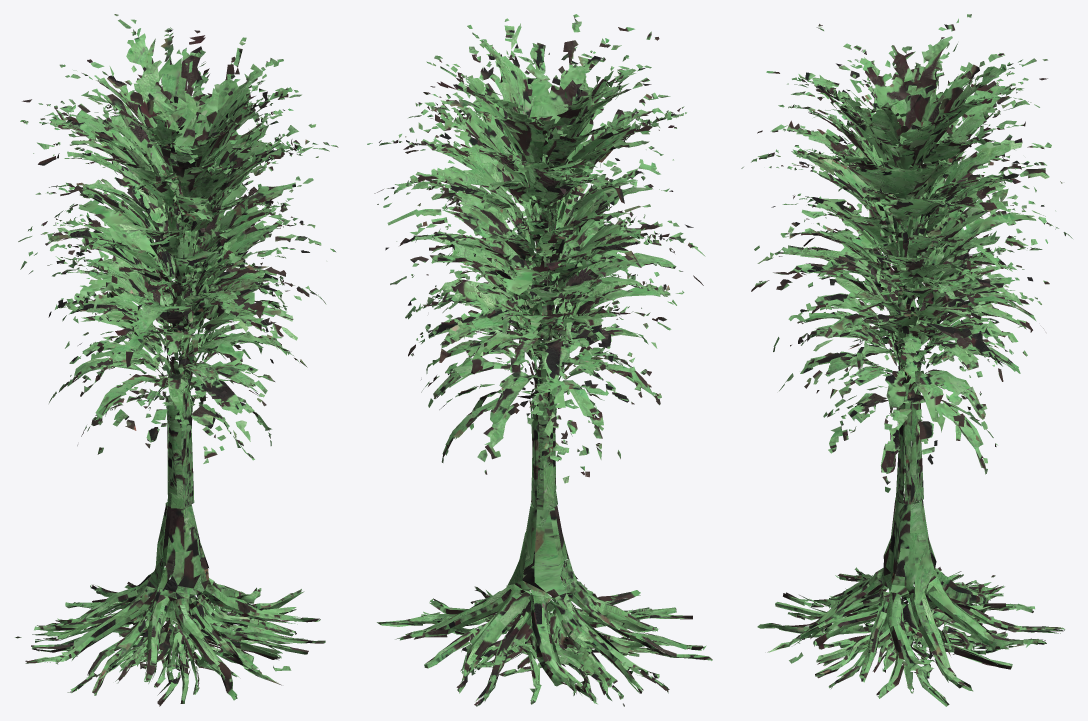
File: veg_tropical_treefern_01.obj
3 renders of one model, left to right at view 1: azimuth 30°, elevation 25°; view 2: azimuth 150°, elevation 25°; view 3: azimuth 270°, elevation 25°, orthographic. The views are drawn at different scales.
Parts seen in each view (by area): view 1: veg_tropical_treefern_01; view 2: veg_tropical_treefern_01; view 3: veg_tropical_treefern_01.
Part boxes in pixels (left/top/right/bottom): veg_tropical_treefern_01: left=15, top=14, right=338, bottom=706; veg_tropical_treefern_01: left=367, top=14, right=712, bottom=706; veg_tropical_treefern_01: left=741, top=14, right=1072, bottom=706.
Bounding box in the file's own units: 4.47 × 8.74 × 4.5.
Materials: 1 (1 with a texture image).
